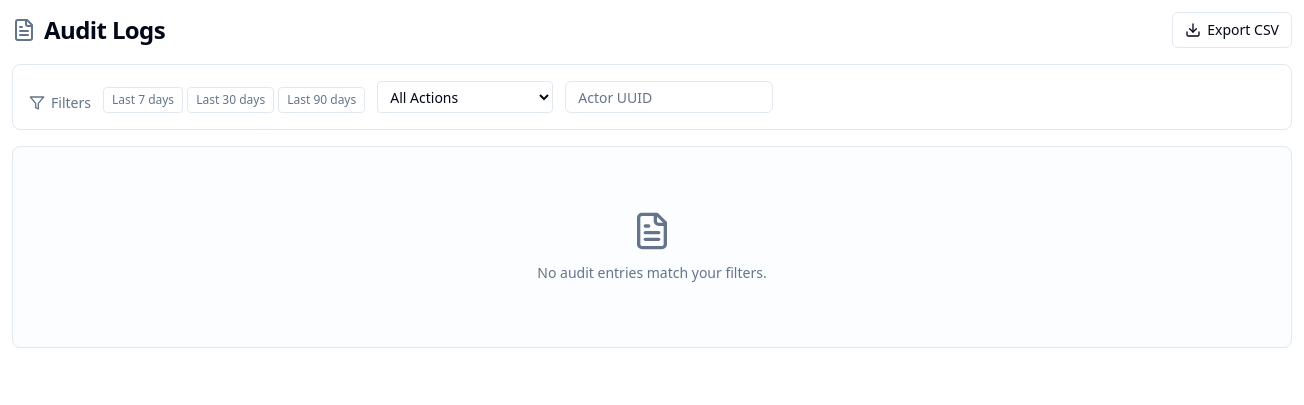
Test: Filter bar (AC5) › removes chip when X is clicked
Step 1. Click the button with test id "preset-7d" → click(143, 100), box [103,87,183,113]
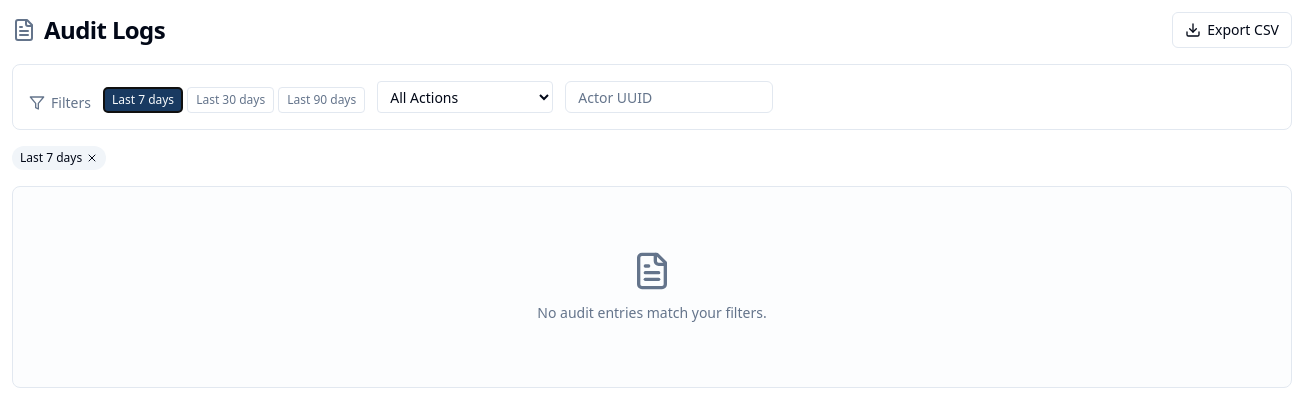
Result: the element with test id "chip-date" is shown at [12,146,106,170]
Note: Click the remove button on the chip
Step 2. Click the button named "Remove Last 7 days filter" → click(92, 158), box [86,152,98,164]
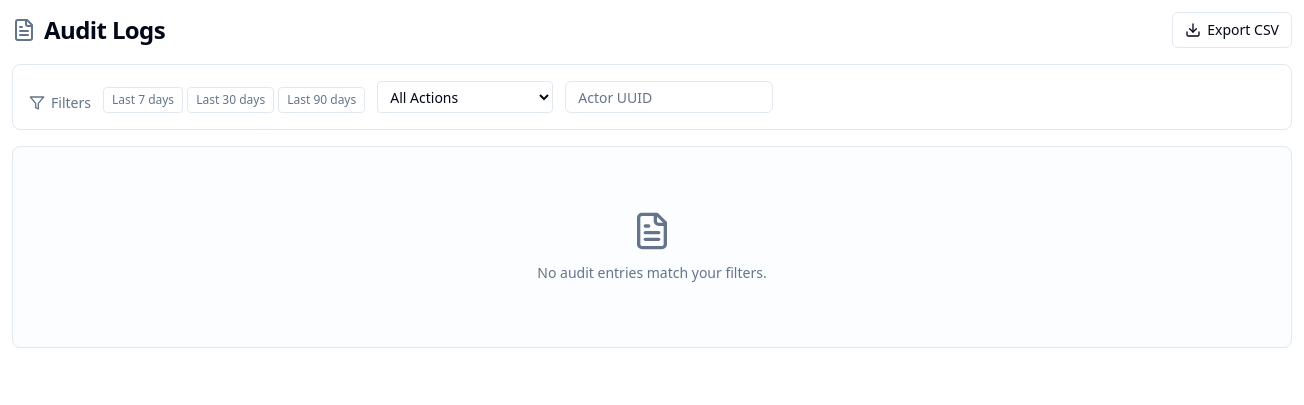
Result: the element with test id "chip-date" is gone
